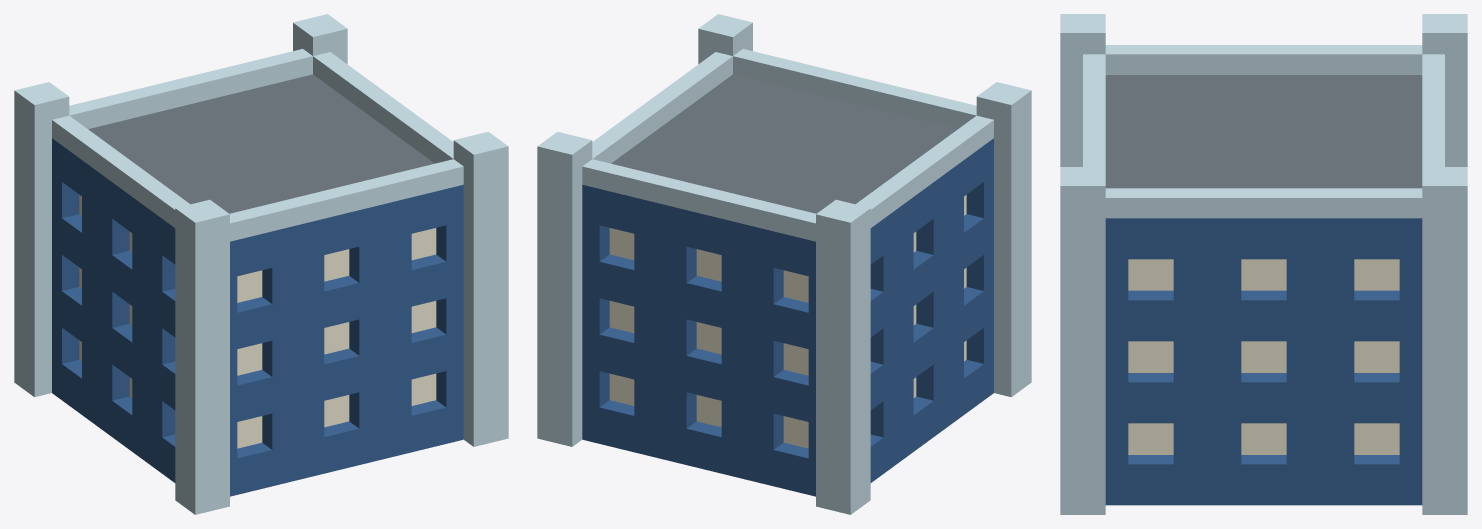
Rendered from Building_11 (Blue).obj.
The picture shows the model from 3 angles, left to right: view 1: azimuth 30°, elevation 25°; view 2: azimuth 150°, elevation 25°; view 3: azimuth 270°, elevation 25°; orthographic projection. The views are drawn at different scales.
Visible parts, largest first — view 1: Building_11_(Blue); view 2: Building_11_(Blue); view 3: Building_11_(Blue).
Boxes of the visible parts, x1,y1,x2,y2 form: Building_11_(Blue): [14, 14, 508, 514]; Building_11_(Blue): [537, 14, 1031, 514]; Building_11_(Blue): [1060, 14, 1467, 514].
Bounding box in the file's own units: 1.8 × 1.6 × 1.8.
